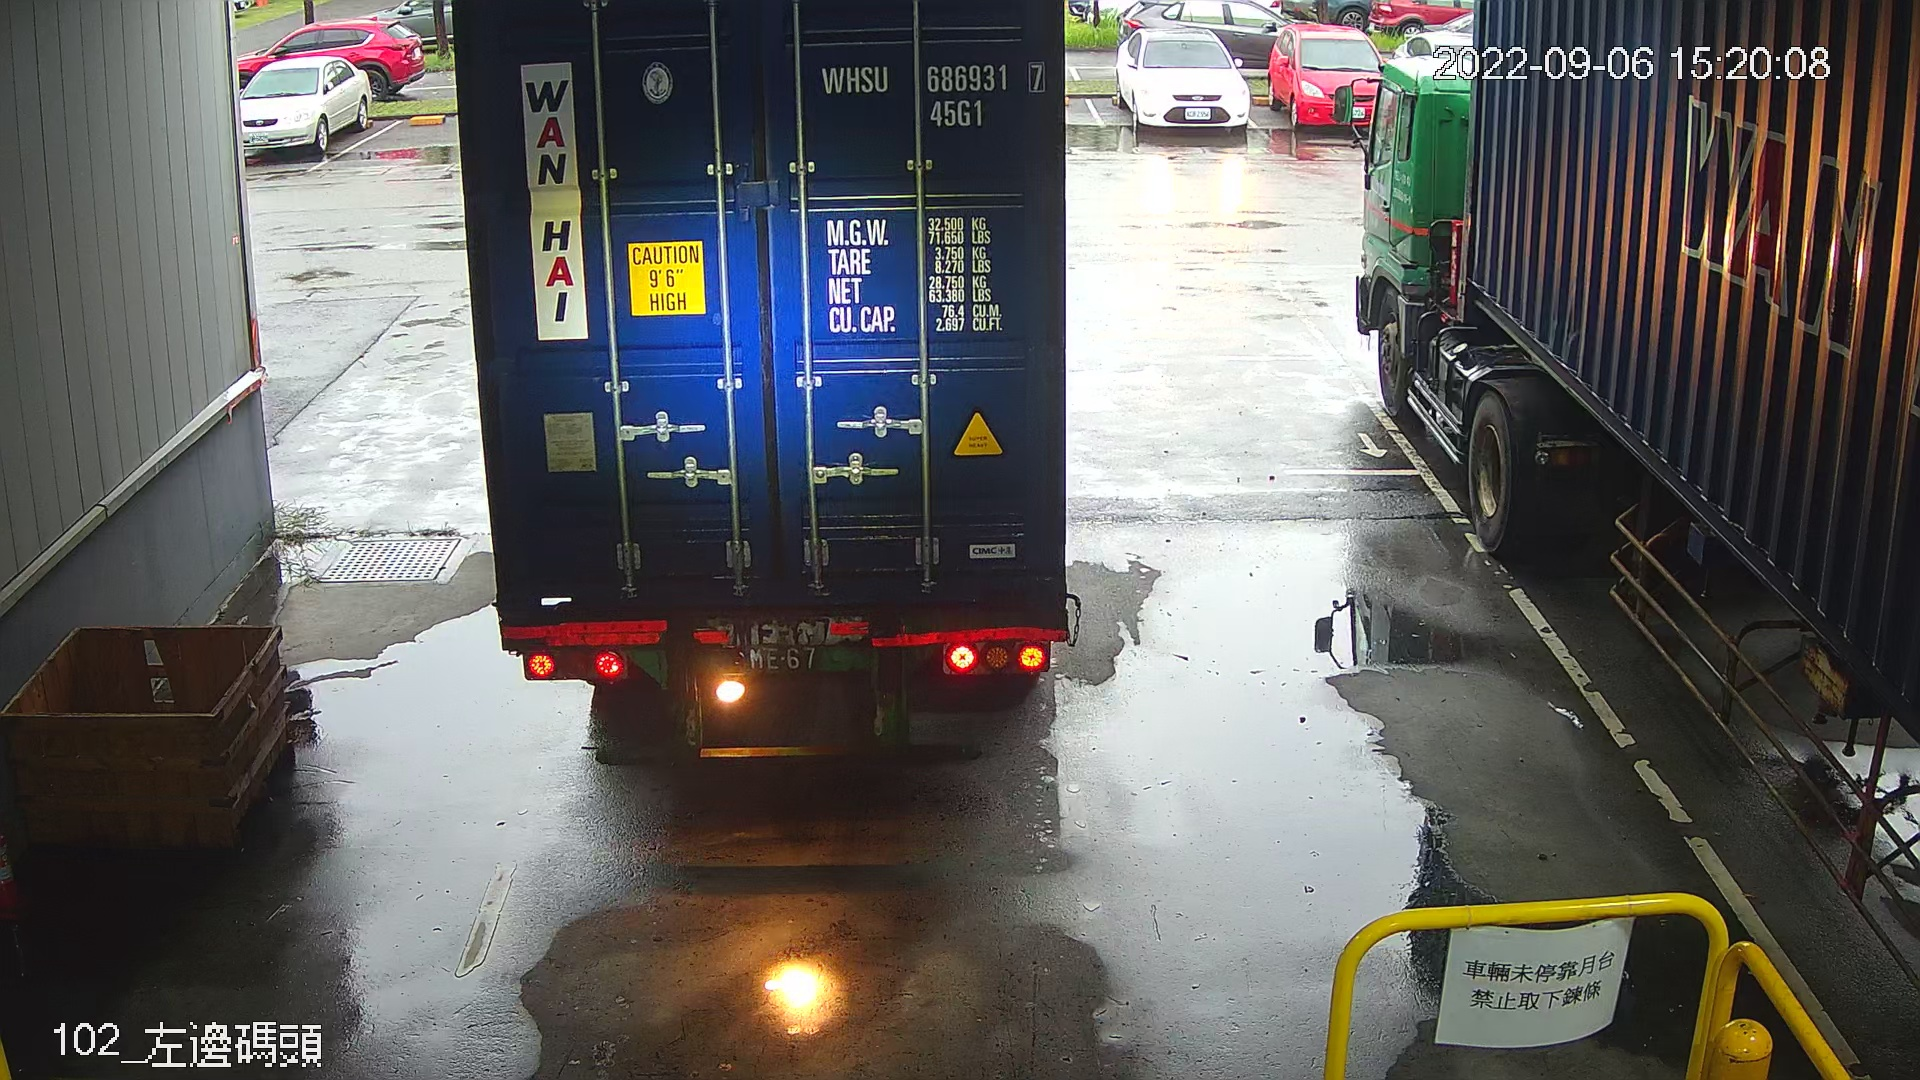container: (812, 51, 1054, 138)
